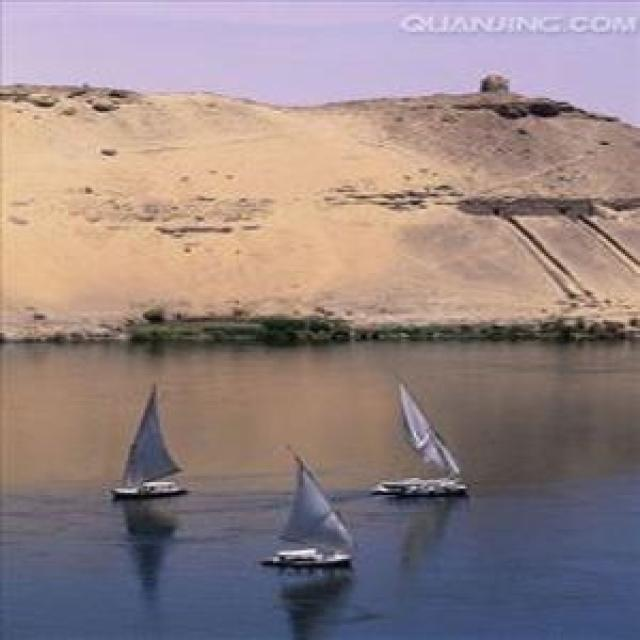sailboat: (371, 372, 470, 500), (260, 438, 350, 567), (107, 379, 187, 495)
